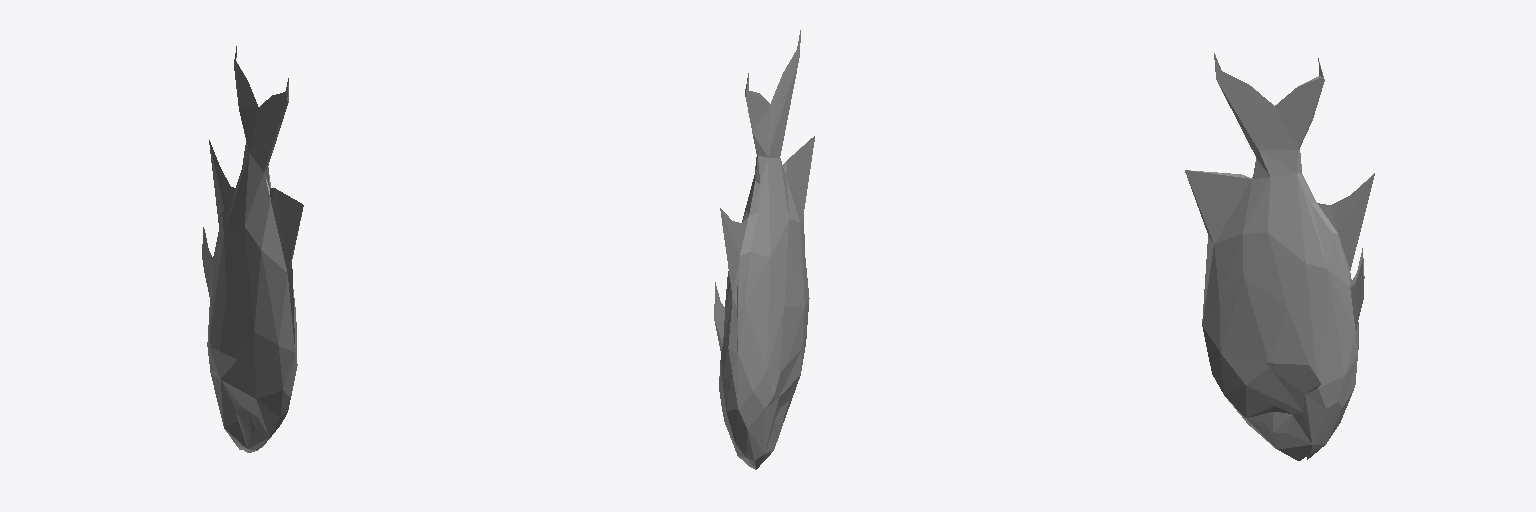
Rendered from fishReduced.obj.
The picture shows the model from 3 angles: view 1: azimuth 30°, elevation 25°; view 2: azimuth 150°, elevation 25°; view 3: azimuth 270°, elevation 25°; orthographic projection.
Visible parts, largest first — view 1: fish; view 2: fish; view 3: fish.
Part boxes in pixels (bbox=[...]): fish: bbox=[202, 46, 303, 452]; fish: bbox=[714, 30, 814, 469]; fish: bbox=[1185, 53, 1374, 460].
Bounding box in the file's own units: 1.19 × 7.7 × 3.25.